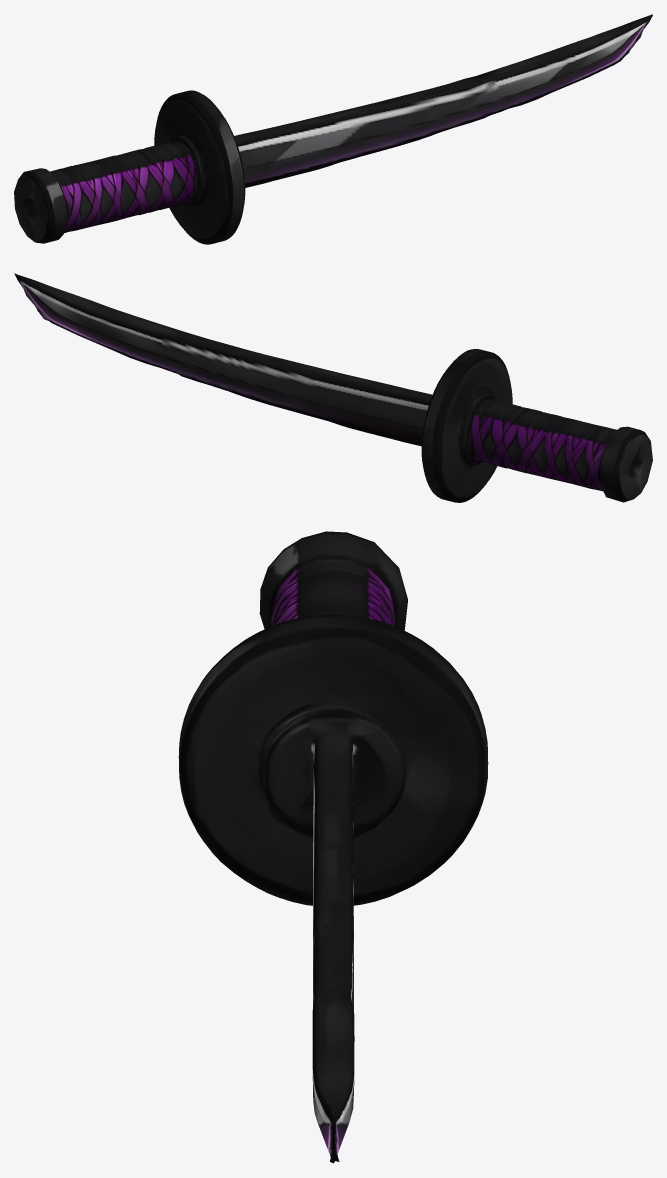
File: komabure_chara_last_boss3_sword_left.glb
The picture shows the model from 3 angles, top to bottom: view 1: azimuth 30°, elevation 25°; view 2: azimuth 150°, elevation 25°; view 3: azimuth 270°, elevation 25°; orthographic projection. The views are drawn at different scales.
Parts seen in each view (by area): view 1: tripo_node_c8c6c735-ed83-430d-93d9-512c1715dc16; view 2: tripo_node_c8c6c735-ed83-430d-93d9-512c1715dc16; view 3: tripo_node_c8c6c735-ed83-430d-93d9-512c1715dc16.
Part boxes in pixels (x1=…): tripo_node_c8c6c735-ed83-430d-93d9-512c1715dc16: x1=14, y1=14, x2=652, y2=244; tripo_node_c8c6c735-ed83-430d-93d9-512c1715dc16: x1=14, y1=273, x2=652, y2=502; tripo_node_c8c6c735-ed83-430d-93d9-512c1715dc16: x1=178, y1=531, x2=488, y2=1163.
Size of the model in its own units: 0.9996 by 0.216 by 0.2152.
Materials: 1 (1 with a texture image).
